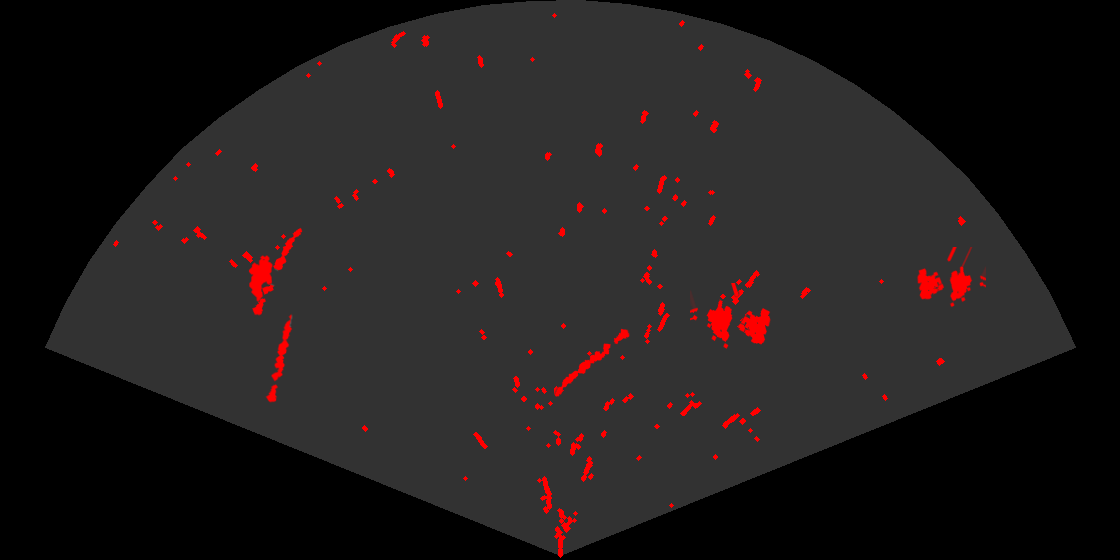AUV: (247, 254, 274, 304)
cage: (690, 283, 772, 350), (915, 247, 986, 309)
chain: (553, 327, 631, 398), (251, 226, 304, 318), (264, 313, 294, 405)
